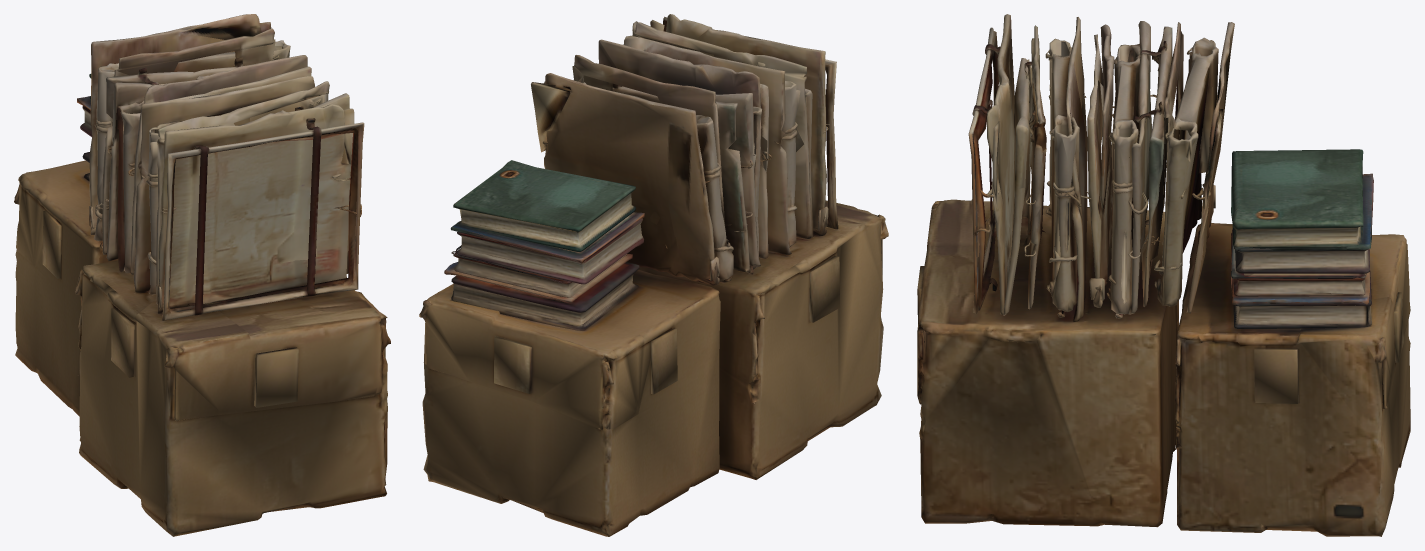
The picture shows the model from 3 angles, left to right: view 1: azimuth 30°, elevation 25°; view 2: azimuth 150°, elevation 25°; view 3: azimuth 270°, elevation 25°; orthographic projection. The views are drawn at different scales.
Parts seen in each view (by area): view 1: tripo_node_1f1df2ae-323c-4c34-91a3-87428ceb6c71; view 2: tripo_node_1f1df2ae-323c-4c34-91a3-87428ceb6c71; view 3: tripo_node_1f1df2ae-323c-4c34-91a3-87428ceb6c71.
Boxes of the visible parts, x1=… form: tripo_node_1f1df2ae-323c-4c34-91a3-87428ceb6c71: x1=14, y1=14, x2=390, y2=536; tripo_node_1f1df2ae-323c-4c34-91a3-87428ceb6c71: x1=419, y1=14, x2=888, y2=536; tripo_node_1f1df2ae-323c-4c34-91a3-87428ceb6c71: x1=917, y1=14, x2=1410, y2=536.
Size of the model in its own units: 0.6973 by 0.9434 by 0.998.
Materials: 1 (1 with a texture image).
